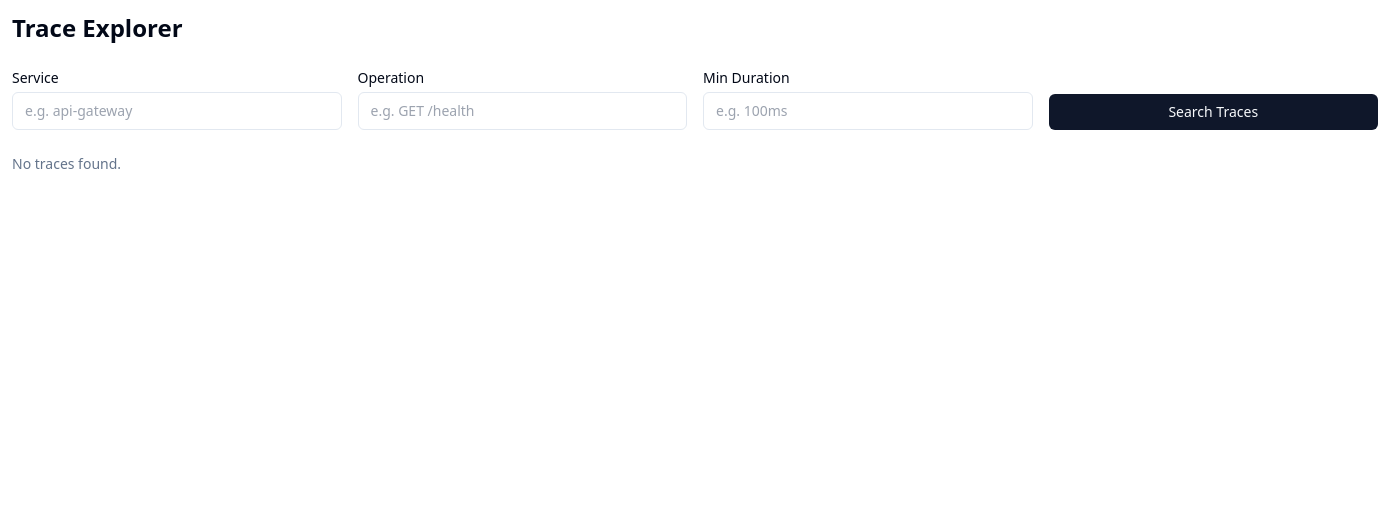
Test: TraceExplorerPage › searches and displays traces when Search Traces is clicked
Type "api-gateway" into the field labelled "Service" at (177, 111), box [12,92,342,130]
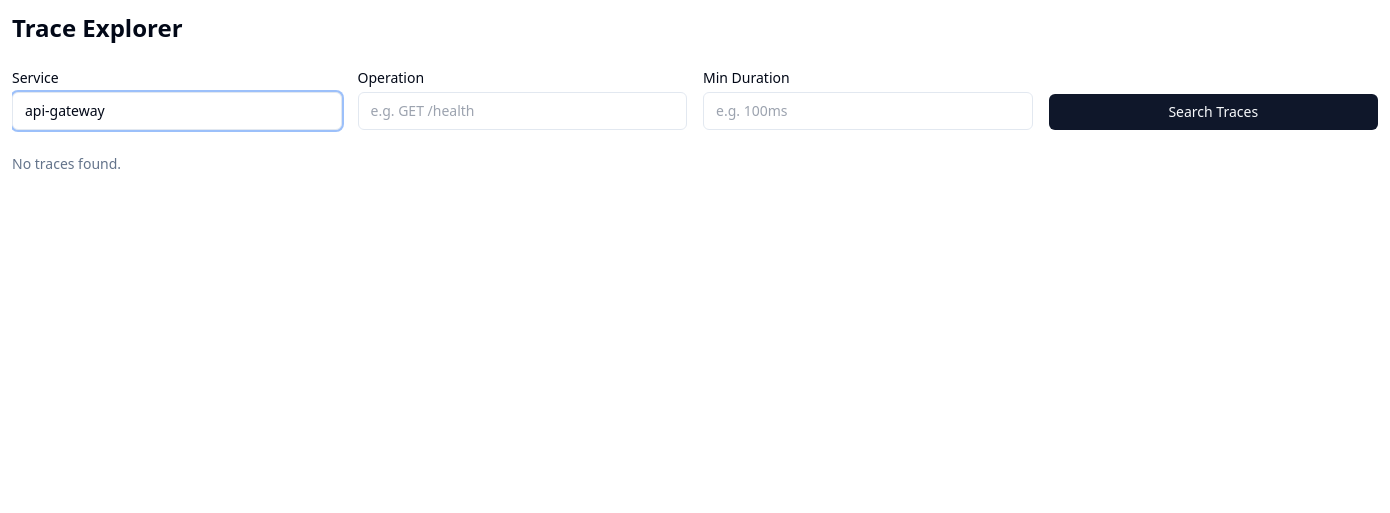
Click the button "Search Traces" at (1213, 112), box [1048,94,1378,130]
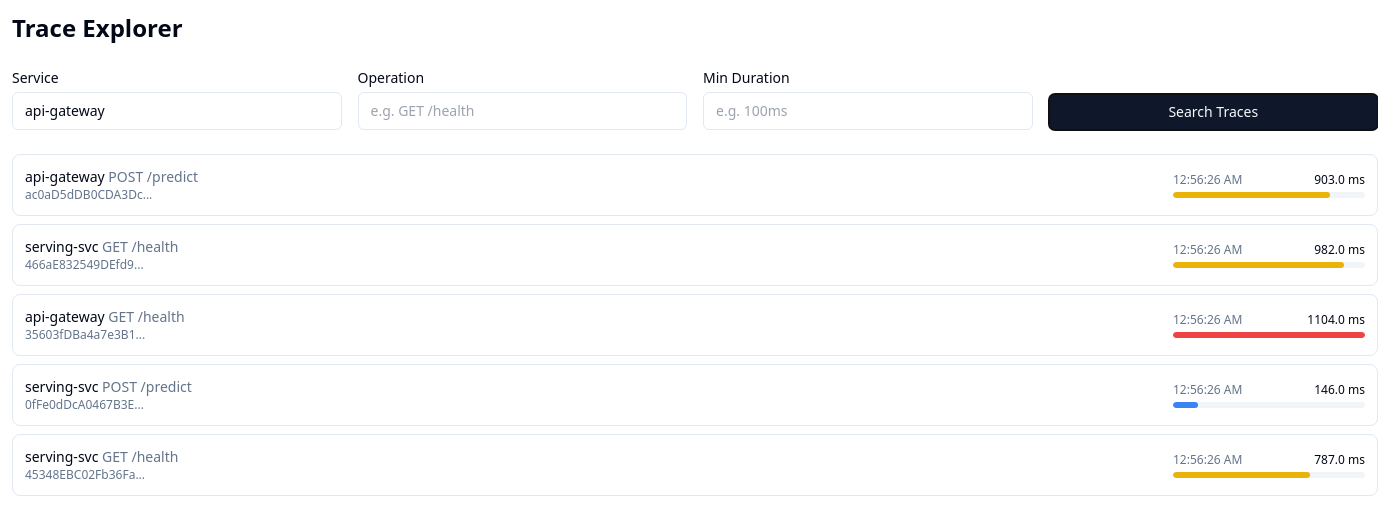
Now the text "api-gateway POST /predict" is shown, box [25,167,198,186]
